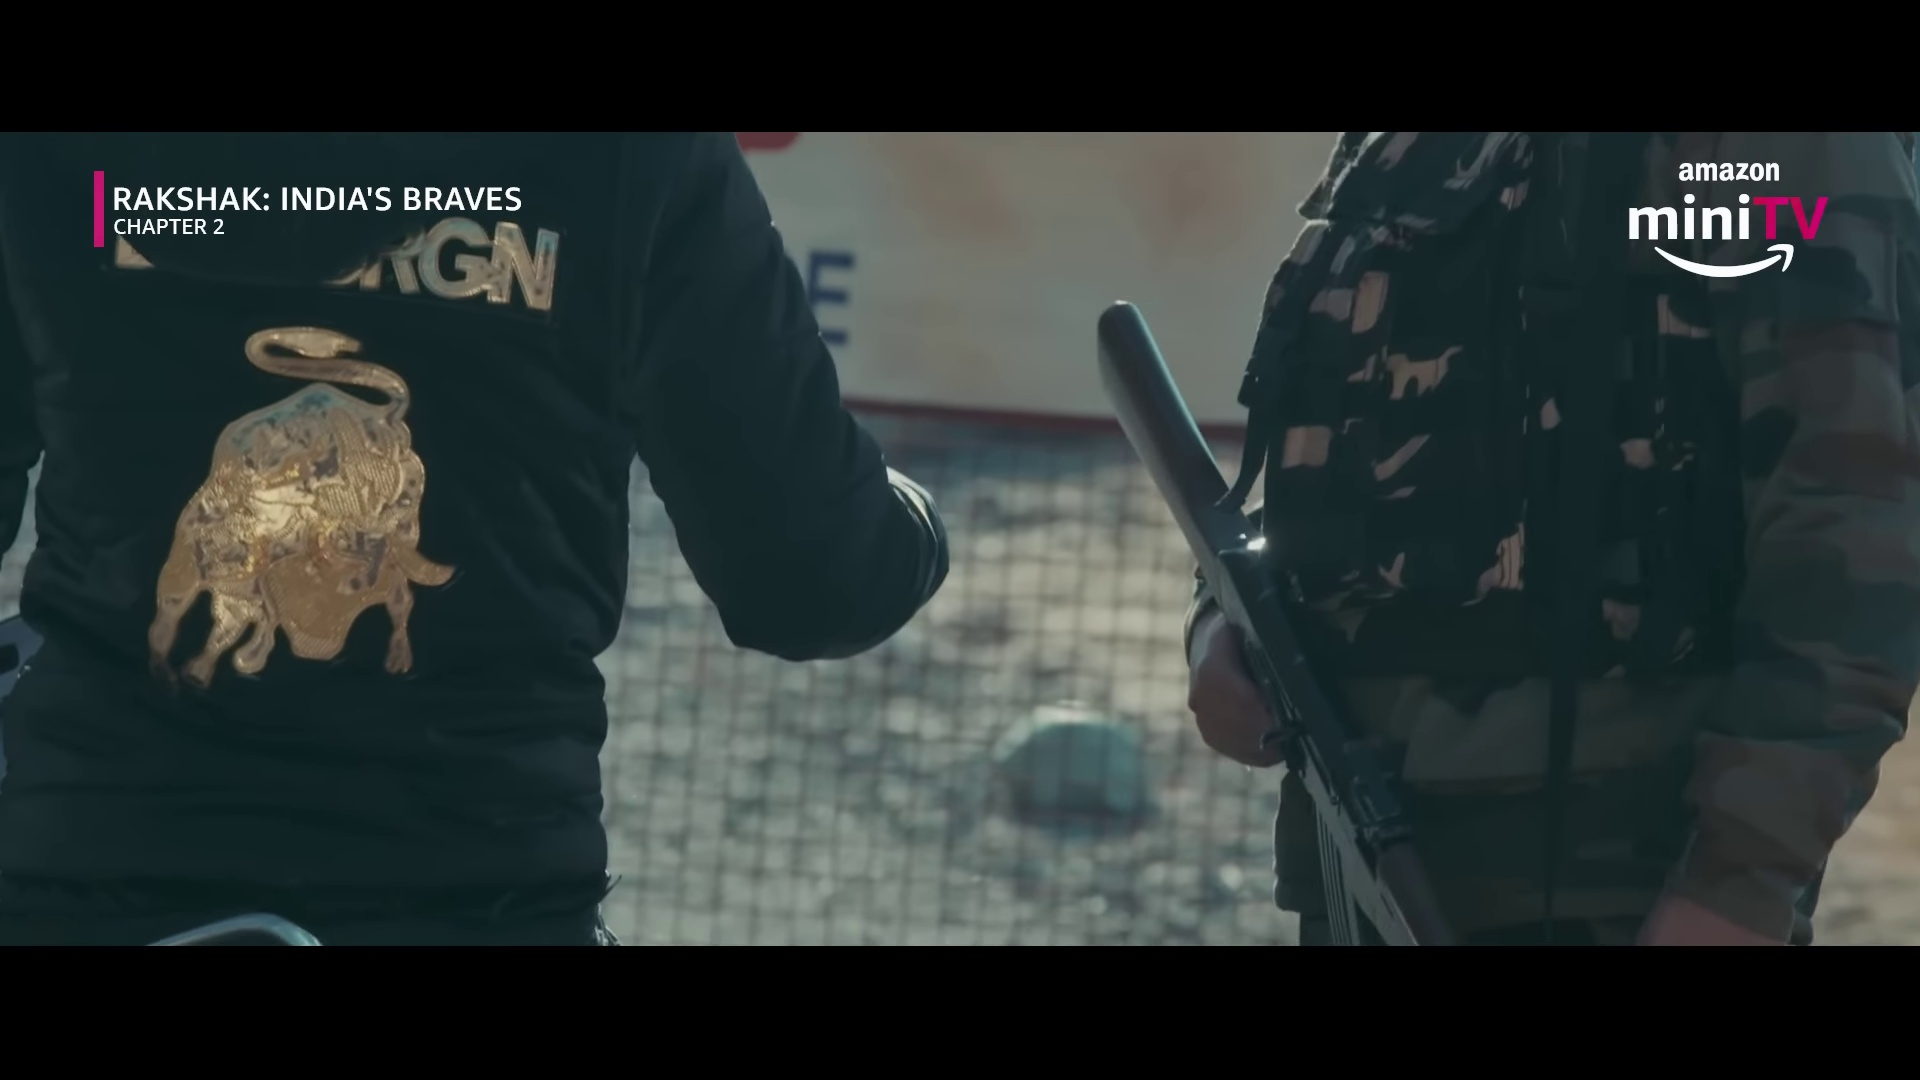gun: (1095, 294, 1460, 945)
p_w_gun: (1058, 128, 1920, 948)
p_wo_gun_not_carrying_normal_pose: (0, 127, 964, 953)
